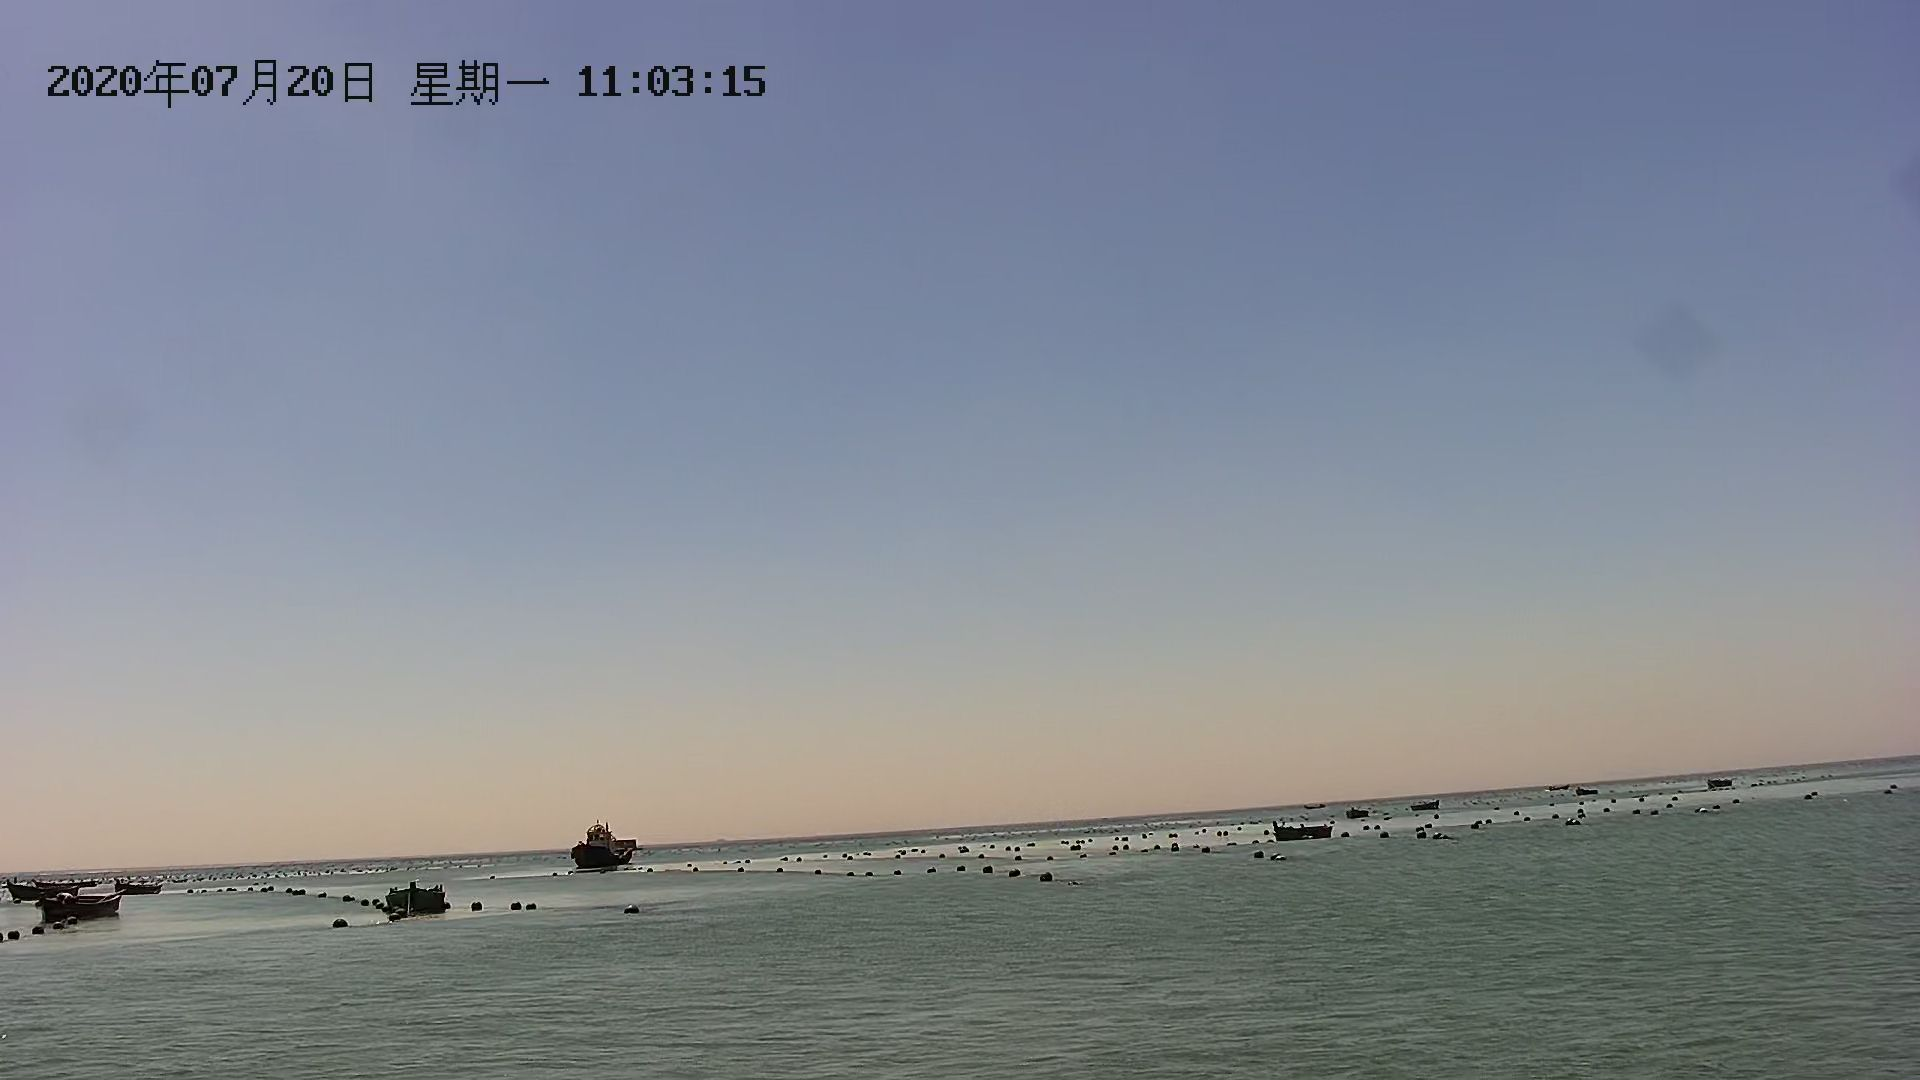ball: (618, 898, 644, 920), (1029, 869, 1059, 887), (326, 911, 352, 931)
boat: (372, 872, 463, 916), (33, 893, 128, 932), (1265, 816, 1340, 849), (3, 876, 91, 902), (109, 873, 169, 901)
ship: (563, 818, 647, 872)
